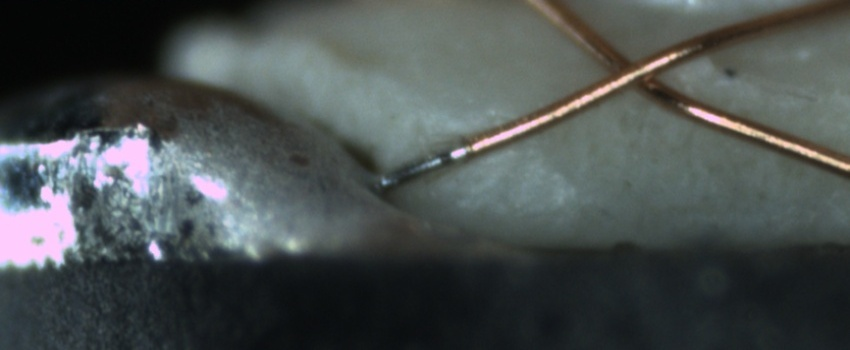CL: (584, 38, 684, 103)
TS: (377, 140, 469, 189)
